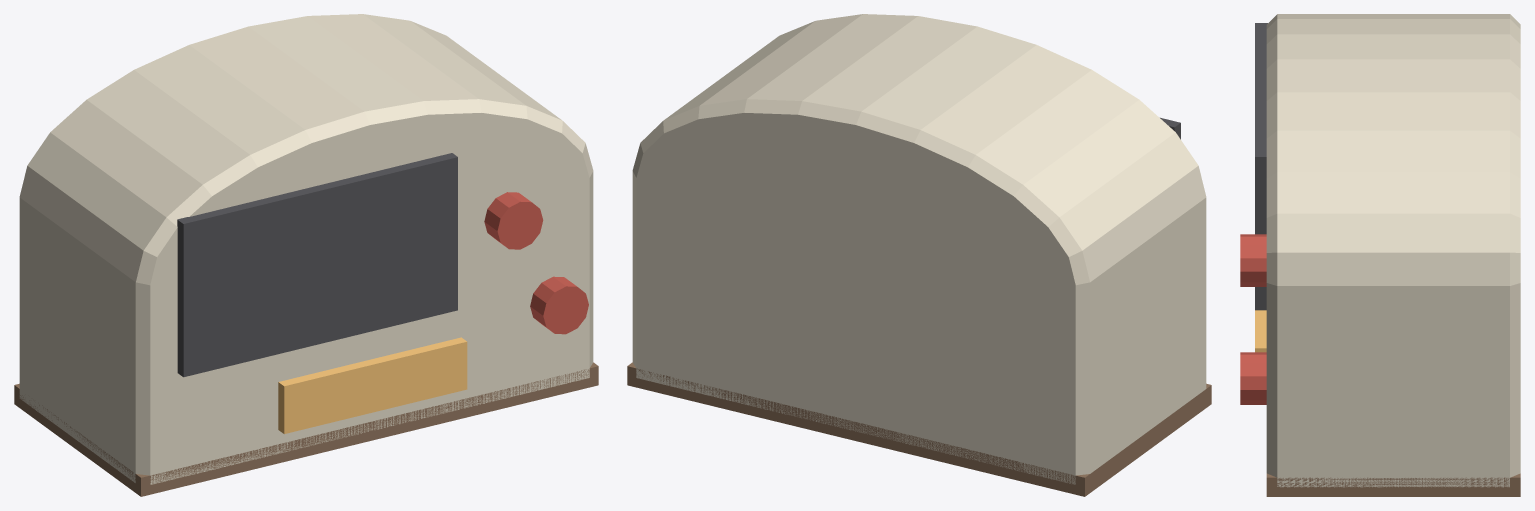
The model's file is Garage_Radio.glb.
3 renders of one model, left to right at view 1: azimuth 30°, elevation 25°; view 2: azimuth 150°, elevation 25°; view 3: azimuth 270°, elevation 25°, orthographic.
Visible parts, largest first — view 1: Garage_Radio; view 2: Garage_Radio; view 3: Garage_Radio.
Boxes of the visible parts, x1,y1,x2,y2 form: Garage_Radio: [14, 14, 598, 496]; Garage_Radio: [627, 14, 1211, 496]; Garage_Radio: [1240, 14, 1520, 496].
Size of the model in its own units: 0.5 by 0.34 by 0.265.
